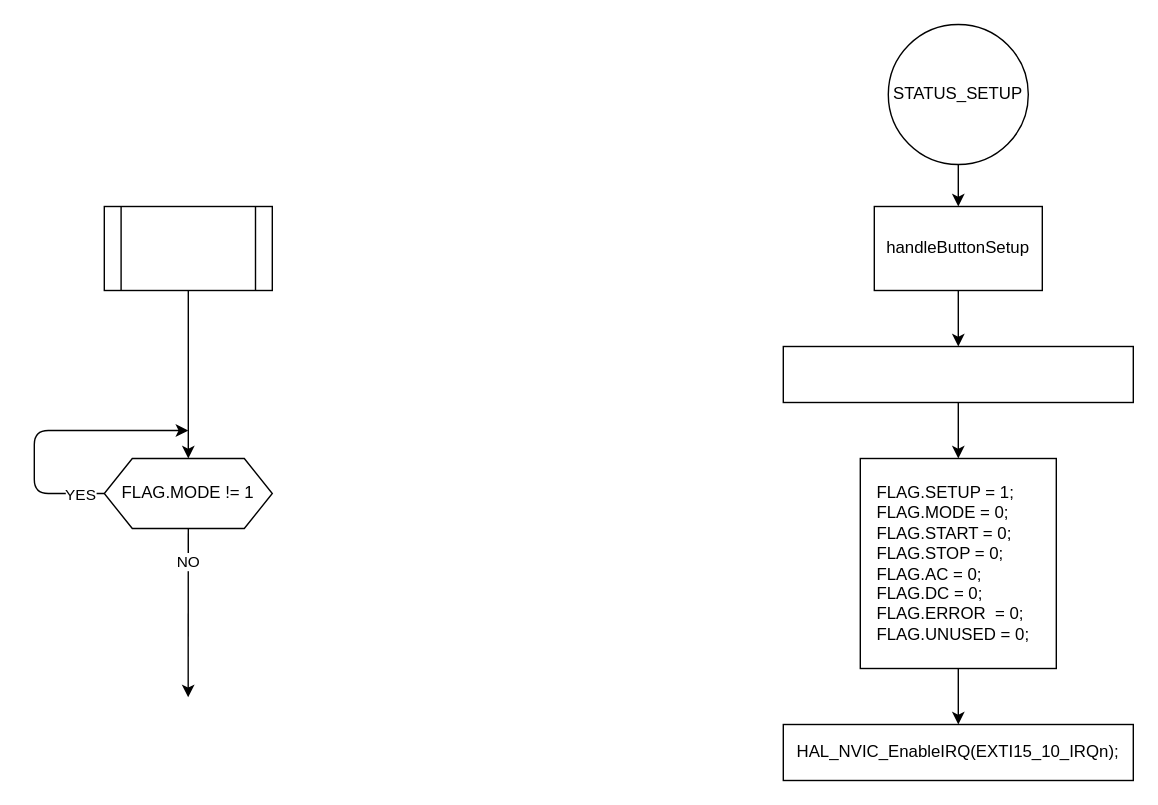
Some shapes in this 1158 by 805 pixel diagram are drawn without their labels. The shapes that lost their labels are listed below. From the top down, each one's box as (x1, y1, x2, y2) in pixels, then its label:
(103, 205, 272, 290): handleSetup()
(782, 345, 1133, 402): HAL_NVIC_DisableIRQ(EXTI15_10_IRQn);
